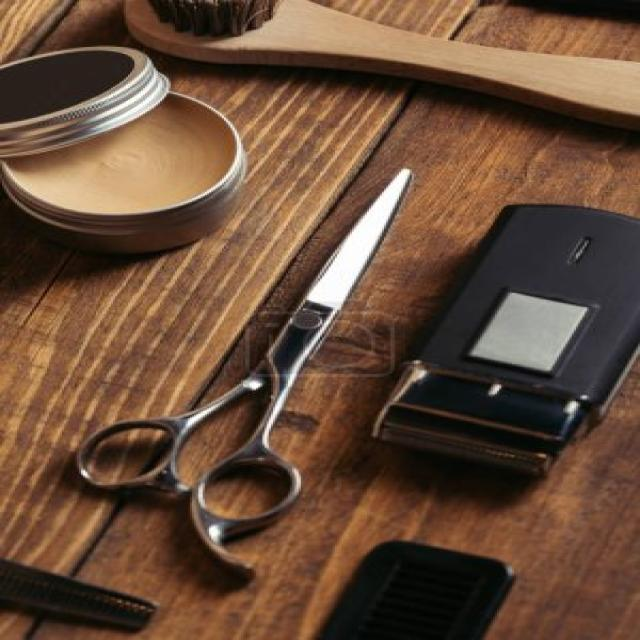tesoura: (39, 150, 444, 598)
